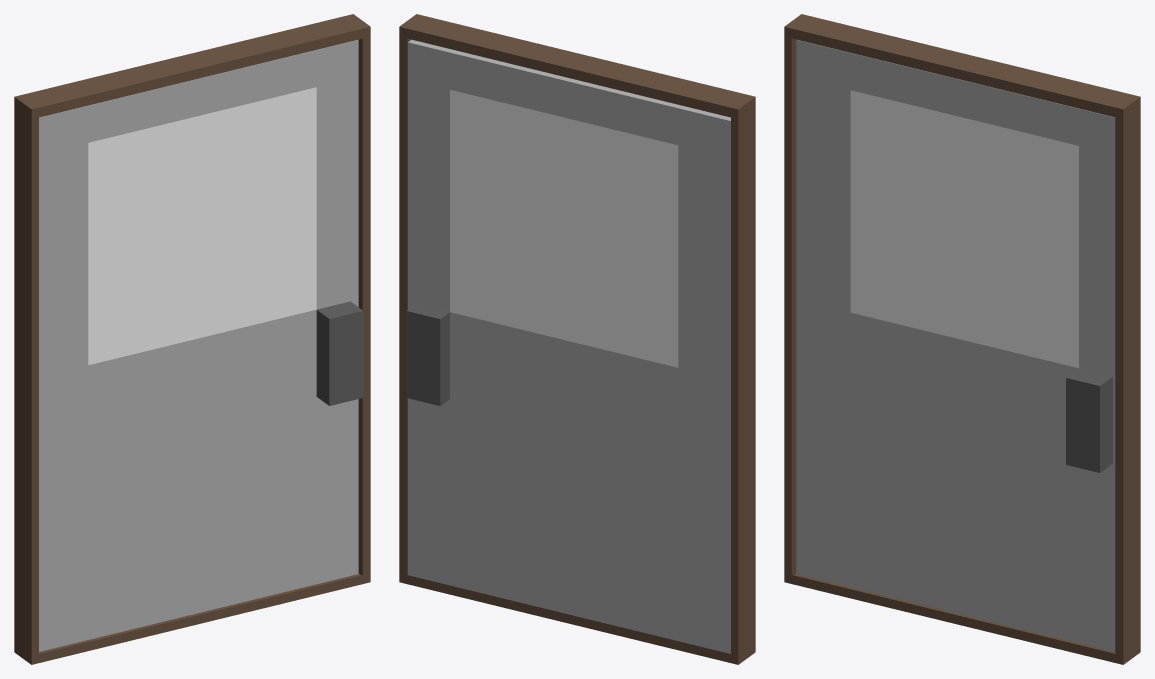
File: door2.glb
3 views of the same model, side by side, from view 1: azimuth 30°, elevation 25°; view 2: azimuth 150°, elevation 25°; view 3: azimuth 330°, elevation 25° (orthographic).
Parts seen in each view (by area): view 1: Cube.035, frame.001; view 2: Cube.035, frame.001; view 3: Cube.035, frame.001.
Boxes of the visible parts, box(x1,y1,x2,y2) form: Cube.035: box(39, 39, 363, 651); frame.001: box(14, 14, 370, 664); Cube.035: box(406, 39, 730, 653); frame.001: box(399, 14, 755, 664); Cube.035: box(796, 39, 1115, 651); frame.001: box(784, 14, 1140, 664).
Size of the model in its own units: 1.28 by 2 by 0.2185.
